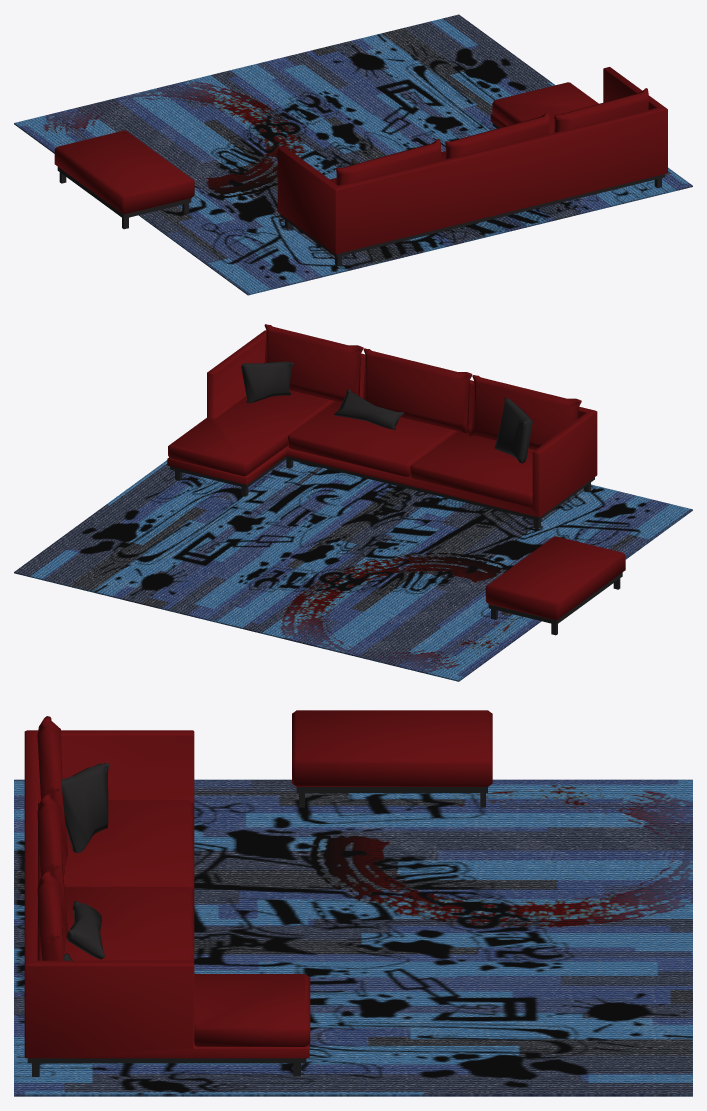
File: M_shafa04.FBX
The picture shows the model from 3 angles, top to bottom: view 1: azimuth 30°, elevation 25°; view 2: azimuth 150°, elevation 25°; view 3: azimuth 270°, elevation 25°; orthographic projection. The views are drawn at different scales.
Parts seen in each view (by area): view 1: M_shafa04_04, M_shafa04_02, M_shafa04_01; view 2: M_shafa04_04, M_shafa04_02, M_shafa04_03, M_shafa04_01; view 3: M_shafa04_04, M_shafa04_02, M_shafa04_03, M_shafa04_01.
Part boxes in pixels (x1,y1,x2,y2): M_shafa04_04: (14, 14, 692, 295); M_shafa04_02: (54, 67, 667, 253); M_shafa04_01: (57, 123, 665, 266); M_shafa04_04: (14, 459, 692, 681); M_shafa04_02: (167, 324, 625, 620); M_shafa04_03: (241, 361, 532, 463); M_shafa04_01: (170, 456, 622, 635); M_shafa04_04: (14, 779, 692, 1096); M_shafa04_02: (24, 710, 492, 1058); M_shafa04_03: (61, 763, 109, 960); M_shafa04_01: (27, 787, 487, 1076).
Bounding box in the file's own units: 6.69 × 1.29 × 5.71.
